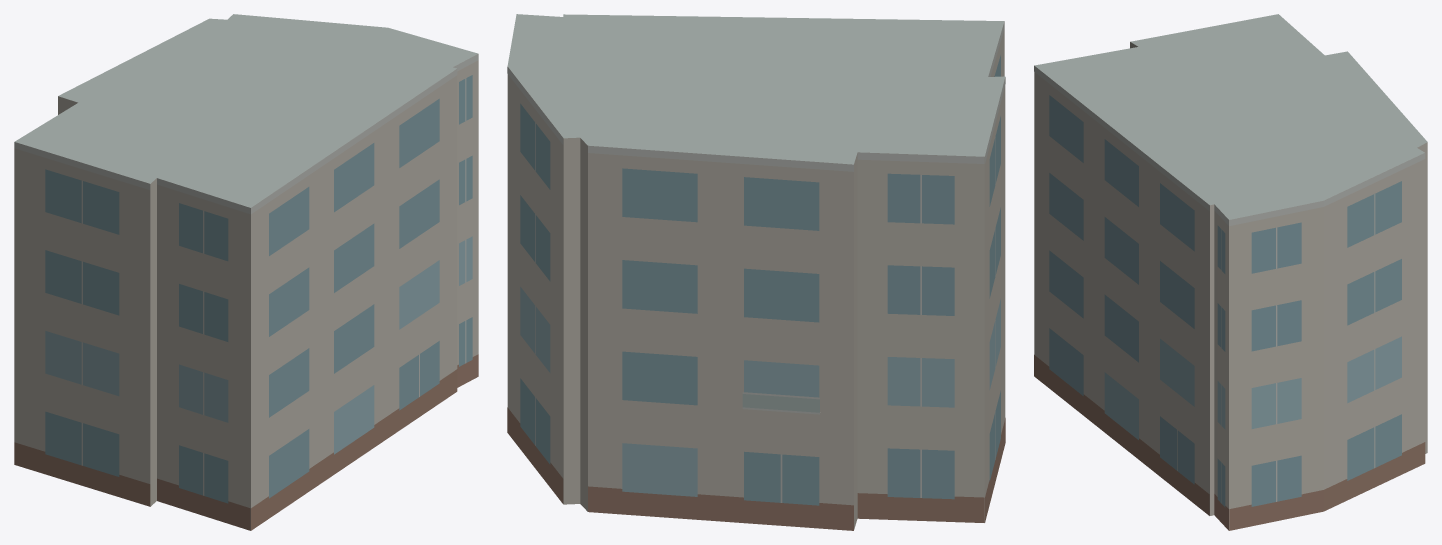
Rendered from survey-upis-32916728.glb.
3 renders of one model, left to right at view 1: azimuth 30°, elevation 25°; view 2: azimuth 150°, elevation 25°; view 3: azimuth 270°, elevation 25°, orthographic. The views are drawn at different scales.
Visible parts, largest first — view 1: survey-upis-32916728.tmp; view 2: survey-upis-32916728.tmp; view 3: survey-upis-32916728.tmp.
Boxes of the visible parts, x1,y1,x2,y2 form: survey-upis-32916728.tmp: (14,14,478,530); survey-upis-32916728.tmp: (507,14,1005,530); survey-upis-32916728.tmp: (1034,14,1427,530).
Size of the model in its own units: 17.35 by 12.2 by 14.01.
